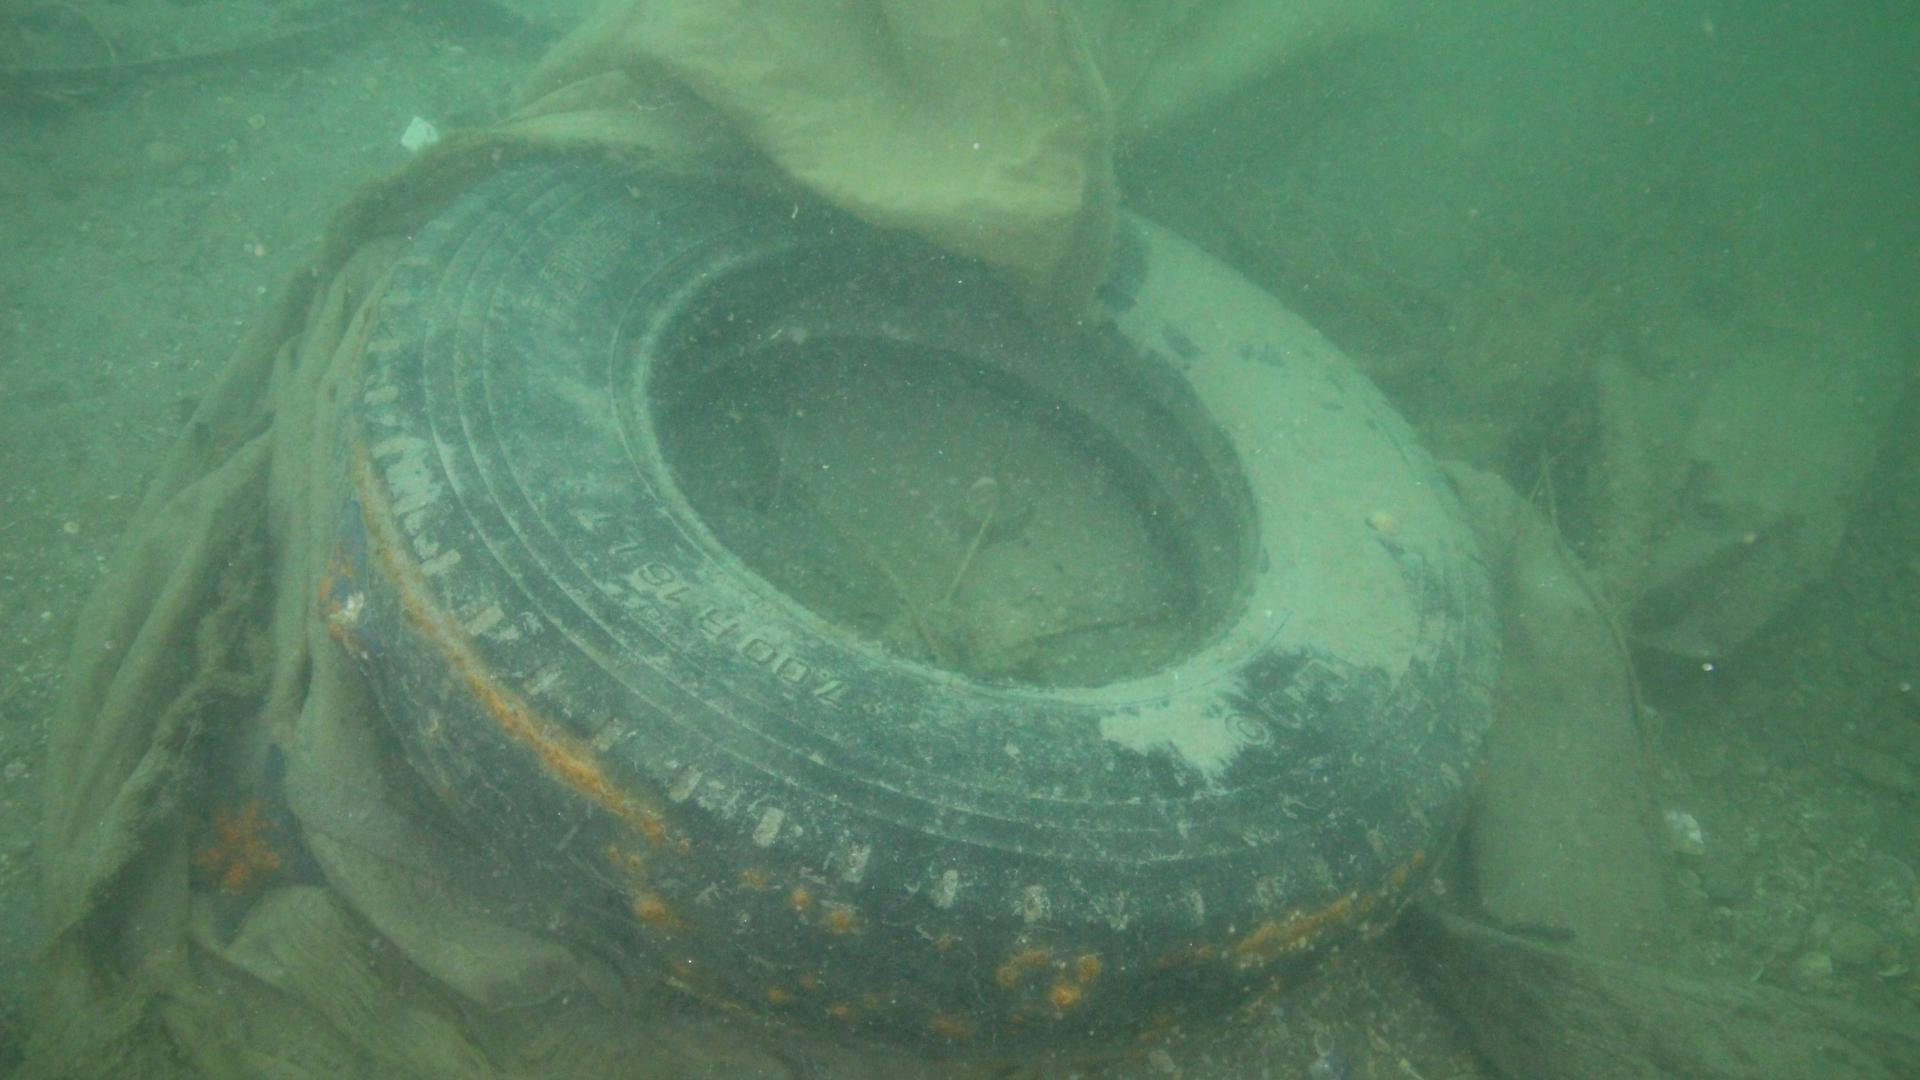tire: (309, 146, 1503, 1064)
